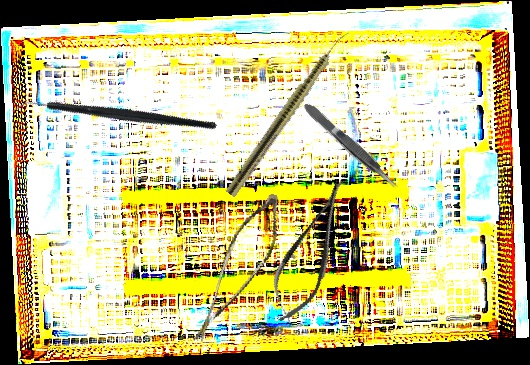Chopper: (10, 37, 218, 198)
Handpiece: (224, 25, 353, 200)
Micro Scissor: (191, 184, 289, 358), (258, 171, 364, 331)
Tissue Forceps: (301, 98, 402, 194)
